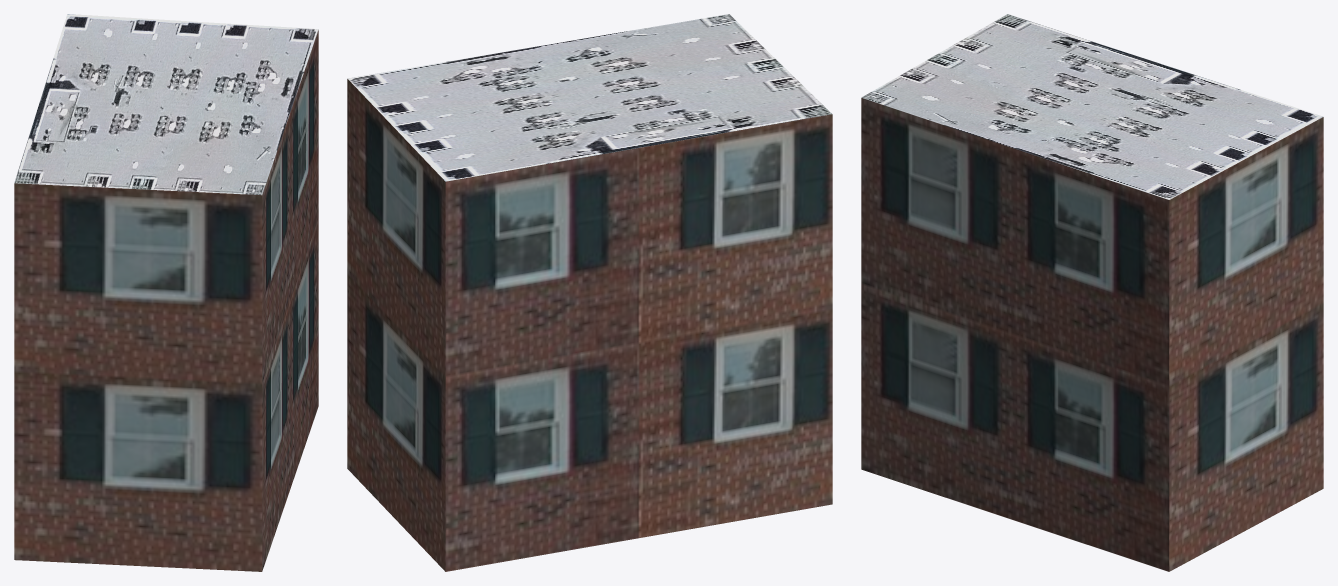
Rendered from ResTex__177.fbx.
The picture shows the model from 3 angles, left to right: view 1: azimuth 30°, elevation 25°; view 2: azimuth 150°, elevation 25°; view 3: azimuth 270°, elevation 25°; orthographic projection. The views are drawn at different scales.
Parts seen in each view (by area): view 1: CityEngineMaterial_14_m, CityEngineMaterial_8_m; view 2: CityEngineMaterial_14_m, CityEngineMaterial_8_m; view 3: CityEngineMaterial_14_m, CityEngineMaterial_8_m.
Part boxes in pixels (x1,y1,x2,y2): CityEngineMaterial_14_m: (14, 30, 318, 571); CityEngineMaterial_8_m: (14, 14, 318, 195); CityEngineMaterial_14_m: (347, 79, 832, 571); CityEngineMaterial_8_m: (347, 14, 832, 181); CityEngineMaterial_14_m: (861, 98, 1323, 571); CityEngineMaterial_8_m: (861, 14, 1323, 199).
Size of the model in its own units: 6.44 by 6 by 6.76.
2 materials, 2 textured.
